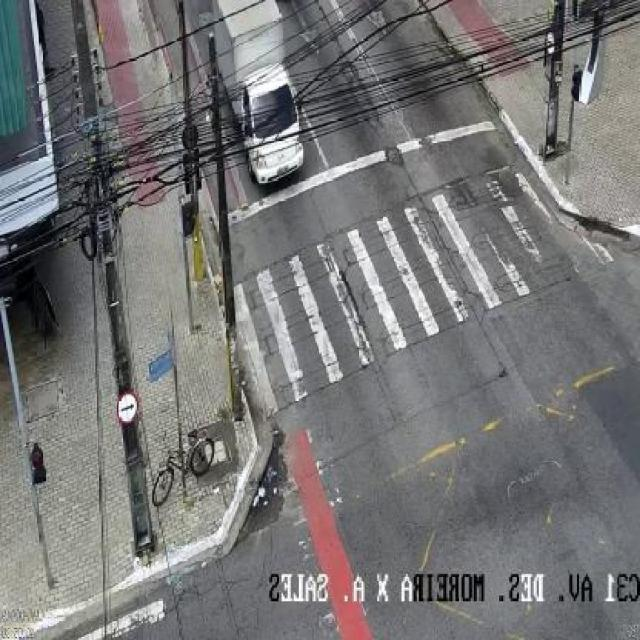Cycle: (152, 428, 216, 506)
Truck: (208, 0, 307, 186)
